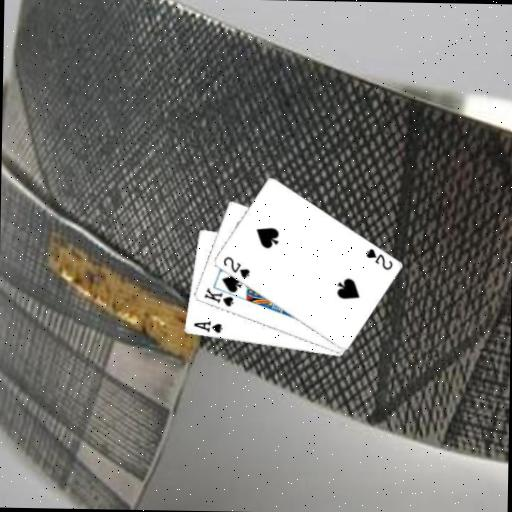2S: (220, 253, 252, 280), (363, 245, 395, 272)
AS: (190, 318, 224, 335)
KS: (201, 285, 236, 309)
